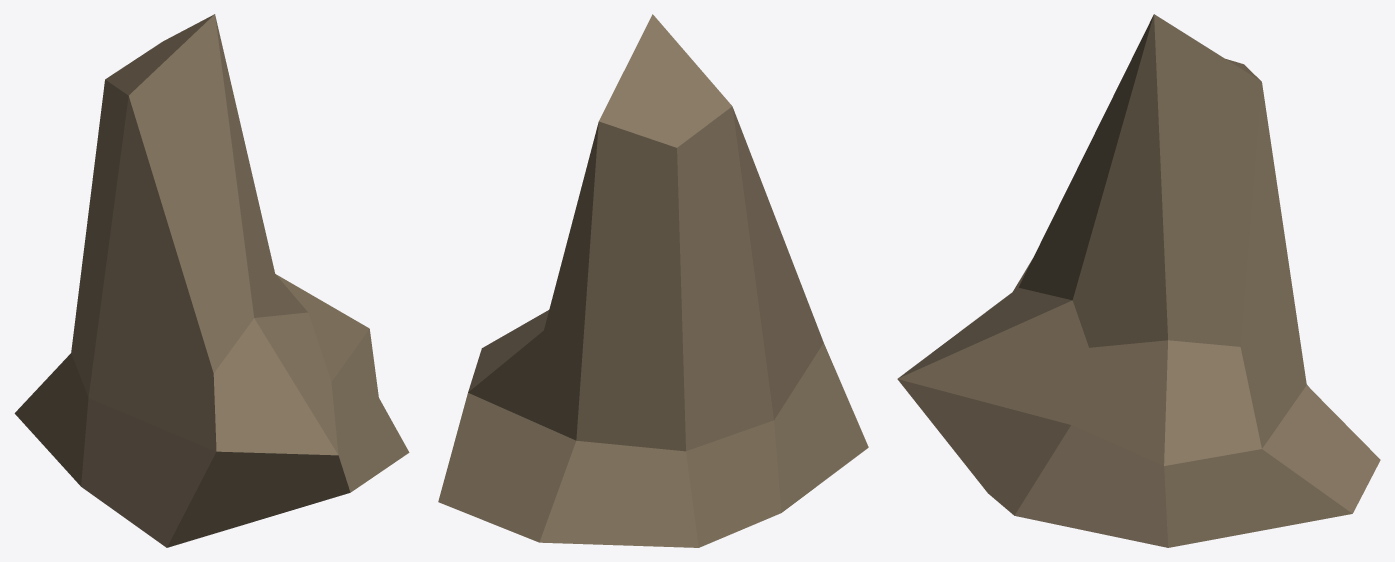
File: rock3.fbx
3 renders of one model, left to right at view 1: azimuth 30°, elevation 25°; view 2: azimuth 150°, elevation 25°; view 3: azimuth 270°, elevation 25°, orthographic. The views are drawn at different scales.
Parts seen in each view (by area): view 1: Cube; view 2: Cube; view 3: Cube.
Boxes of the visible parts, x1,y1,x2,y2 form: Cube: (14, 14, 409, 547); Cube: (438, 14, 868, 547); Cube: (897, 14, 1380, 547).
Size of the model in its own units: 450 by 639 by 605.
